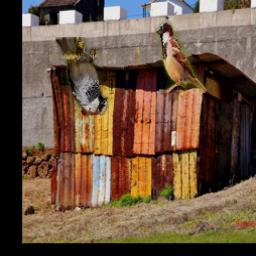Sparrow: (55, 37, 108, 115), (156, 21, 208, 93)
